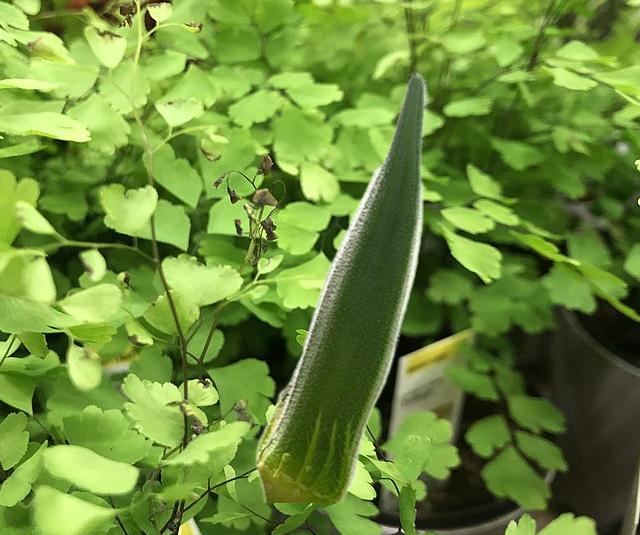okra: (254, 70, 426, 501)
